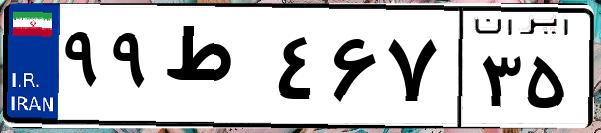3: (475, 38, 525, 113)
4: (270, 28, 330, 110)
5: (525, 38, 570, 115)
6: (330, 28, 385, 110)
7: (385, 28, 445, 110)
9: (57, 26, 110, 100), (110, 28, 158, 98)
ط: (158, 20, 270, 120)
